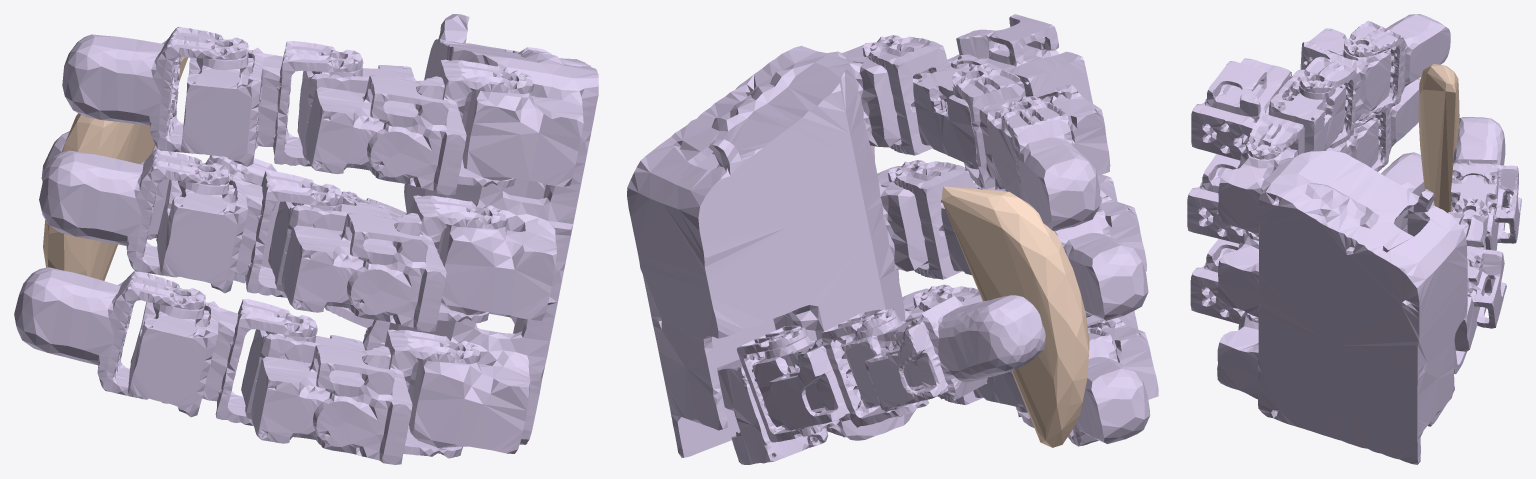
Rendered from ffef289a4e1da7-closed.glb.
The picture shows the model from 3 angles, left to right: view 1: azimuth 30°, elevation 25°; view 2: azimuth 150°, elevation 25°; view 3: azimuth 270°, elevation 25°; orthographic projection. The views are drawn at different scales.
Parts seen in each view (by area): view 1: LEAP_hand, world; view 2: LEAP_hand, world; view 3: LEAP_hand, world.
Boxes of the visible parts, left/top/right/bottom form: LEAP_hand: left=14, top=14, right=598, bottom=464; world: left=43, top=56, right=188, bottom=280; LEAP_hand: left=627, top=14, right=1158, bottom=464; world: left=941, top=186, right=1089, bottom=447; LEAP_hand: left=1187, top=14, right=1521, bottom=464; world: left=1418, top=64, right=1459, bottom=212.
Bounding box in the file's own units: 0.202 × 0.1515 × 0.1472.
